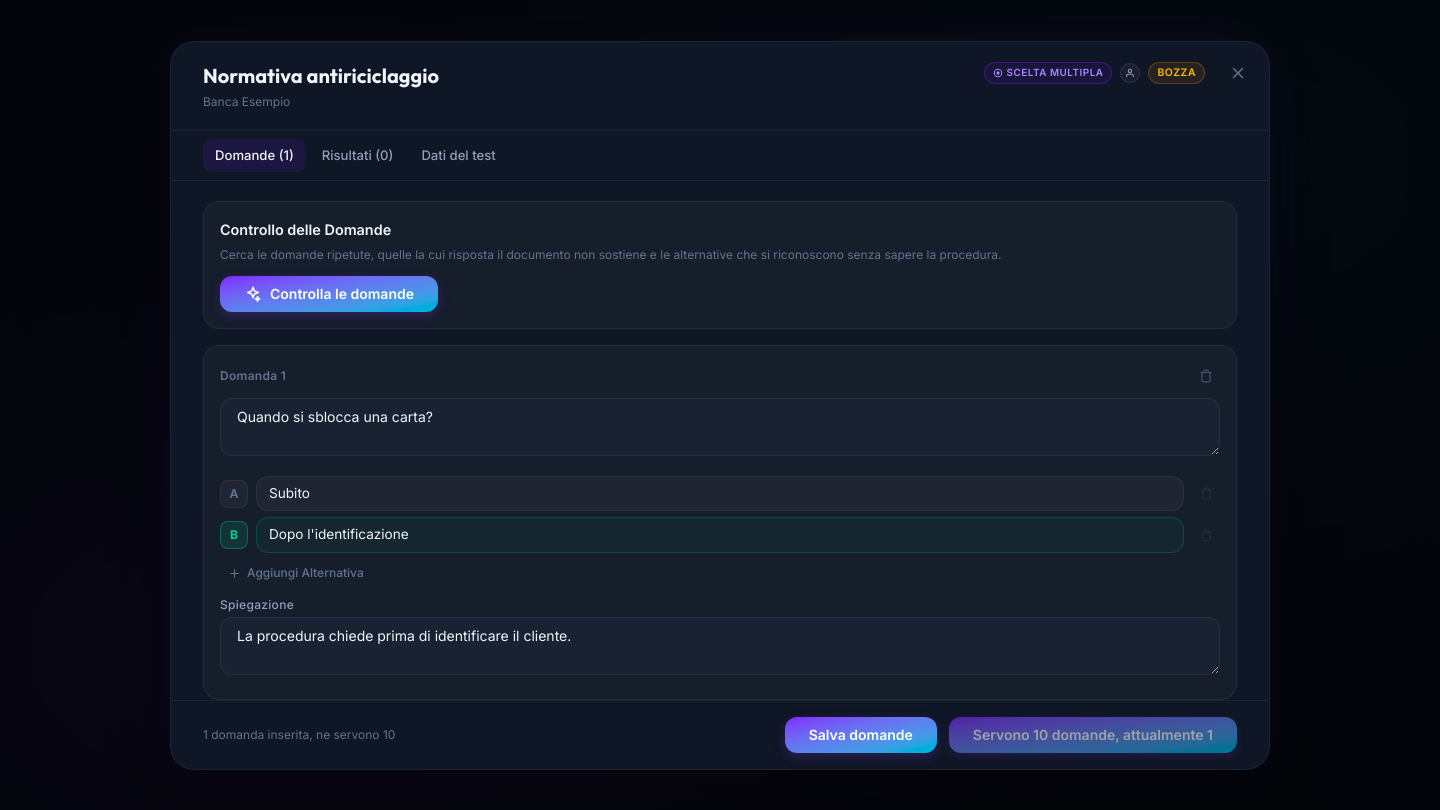
Test: SimulationEditorModal › chiede conferma prima di buttare le domande scritte
Type " davvero" into the text box named "Testo della domanda 1" at (720, 427), box [220,398,1220,456]
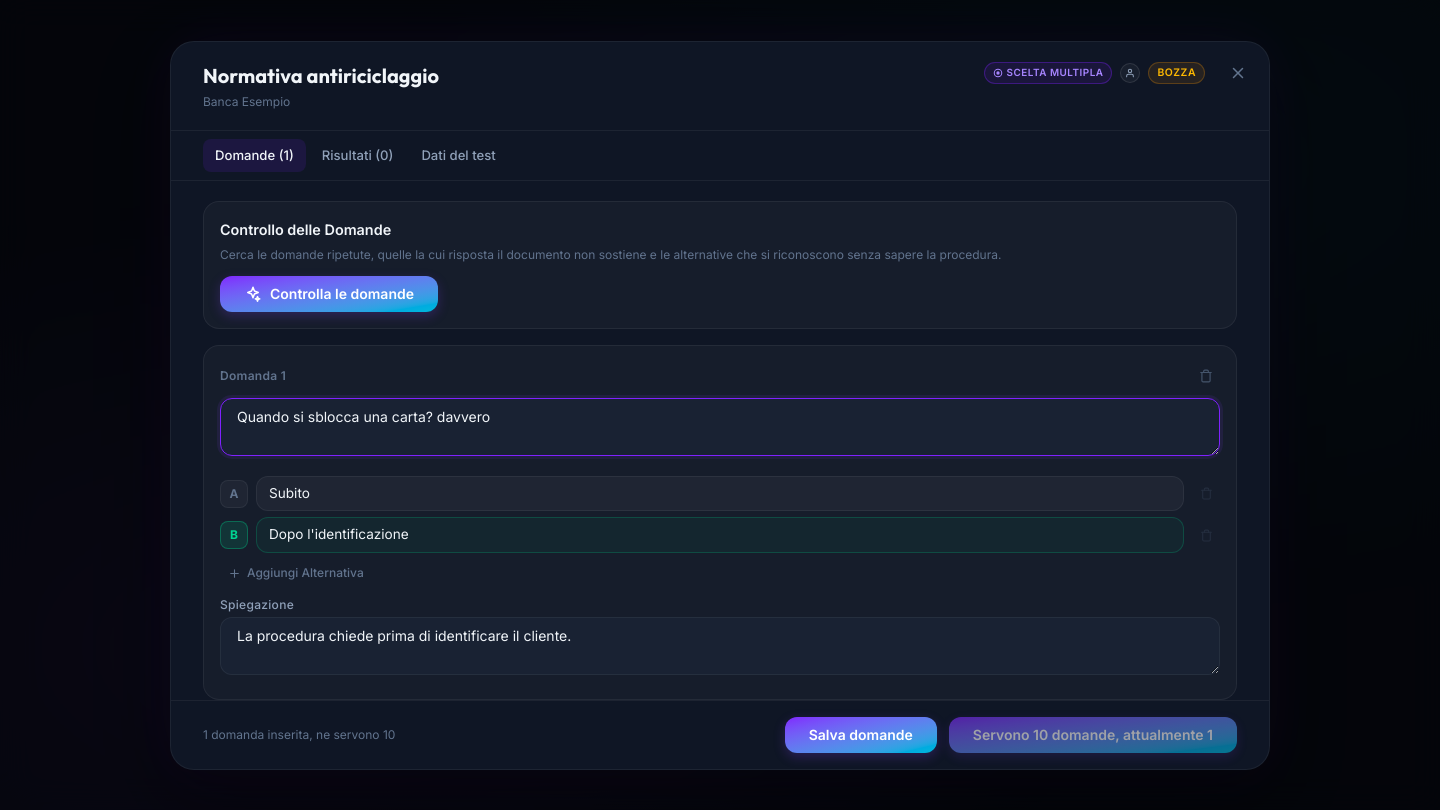
Click the button named "Chiudi" at (1238, 72), box [1223,58,1253,88]
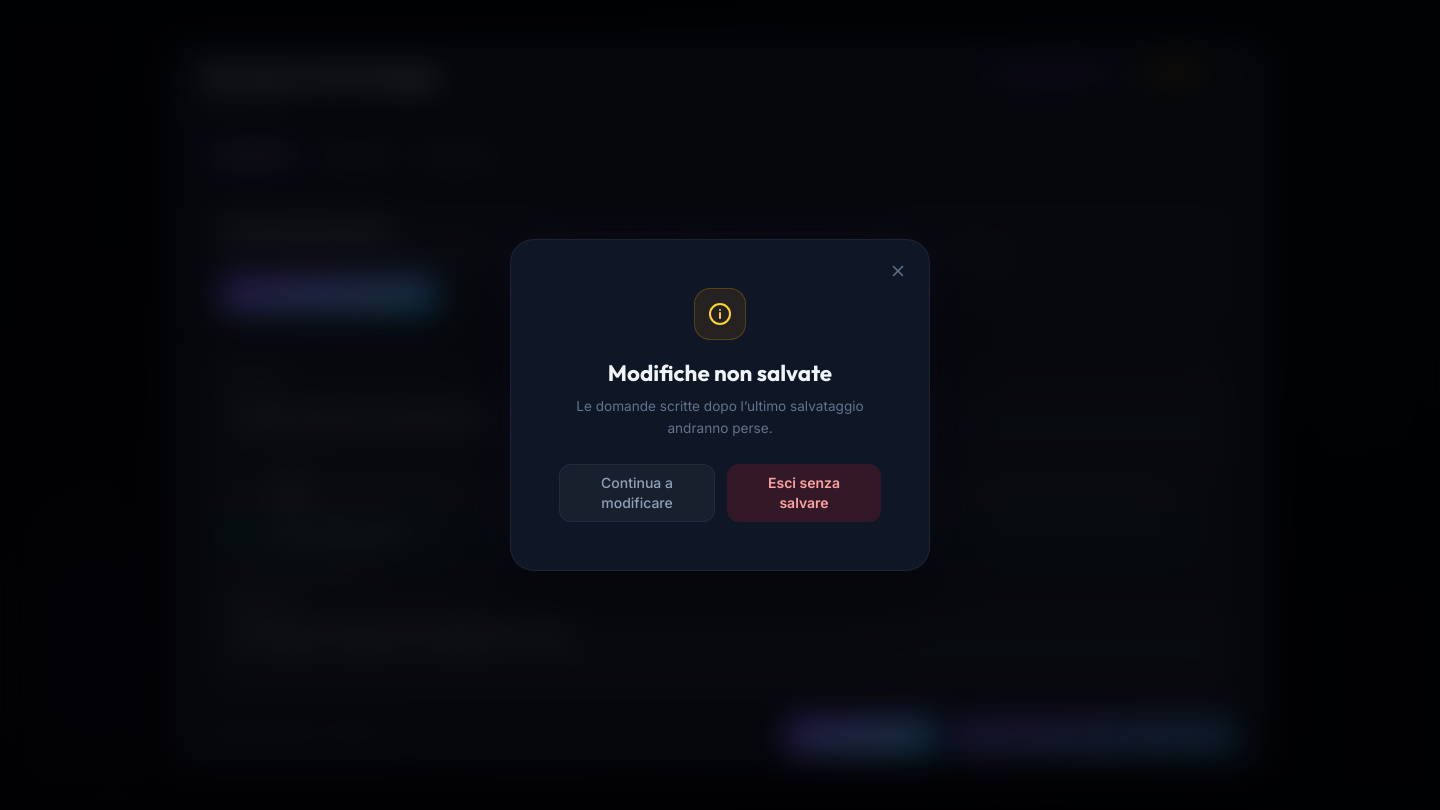
Check: the heading "Modifiche non salvate" is shown, box [608,359,832,387]
Check: the text "Le domande scritte dopo l’ultimo salvataggio andranno perse." is shown, box [559,396,881,440]
